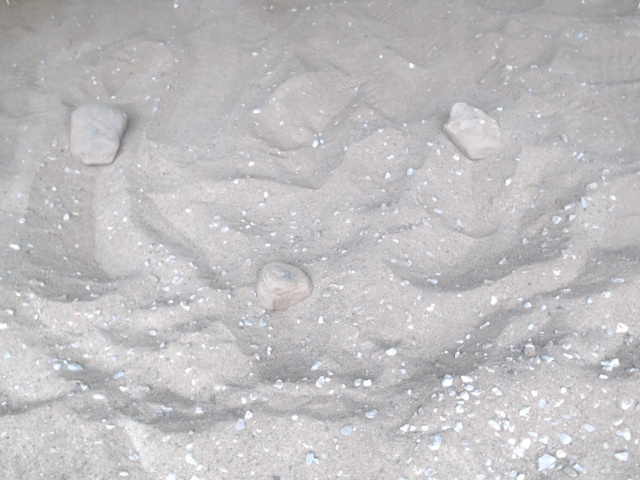rock: (64, 97, 133, 171), (439, 99, 506, 164), (252, 257, 318, 314)
